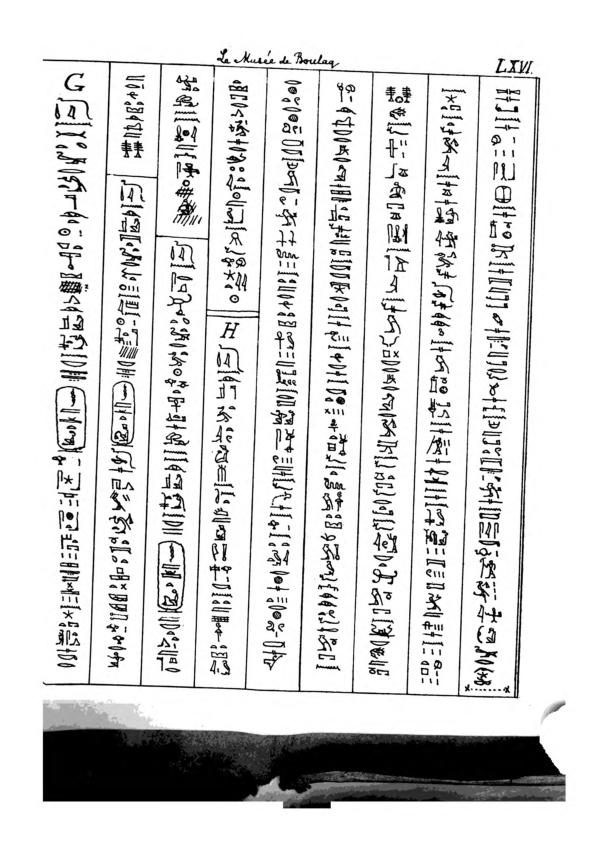circle: (51, 385, 89, 454), (155, 537, 186, 615), (108, 378, 137, 448)
